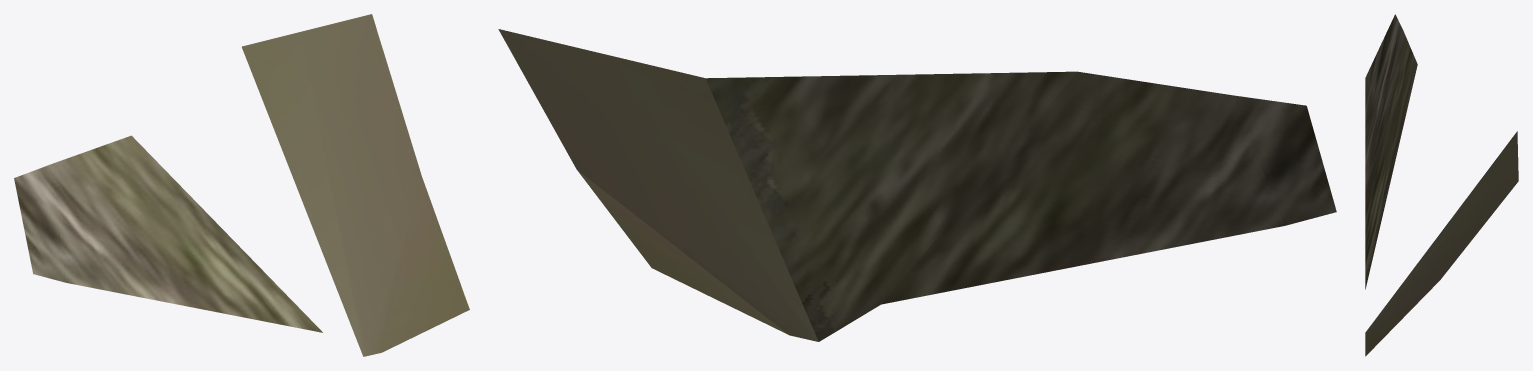
3 renders of one model, left to right at view 1: azimuth 30°, elevation 25°; view 2: azimuth 150°, elevation 25°; view 3: azimuth 270°, elevation 25°, orthographic. The views are drawn at different scales.
Size of the model in its own units: 2.95 by 1.59 by 1.14.
2 materials, 2 textured.
